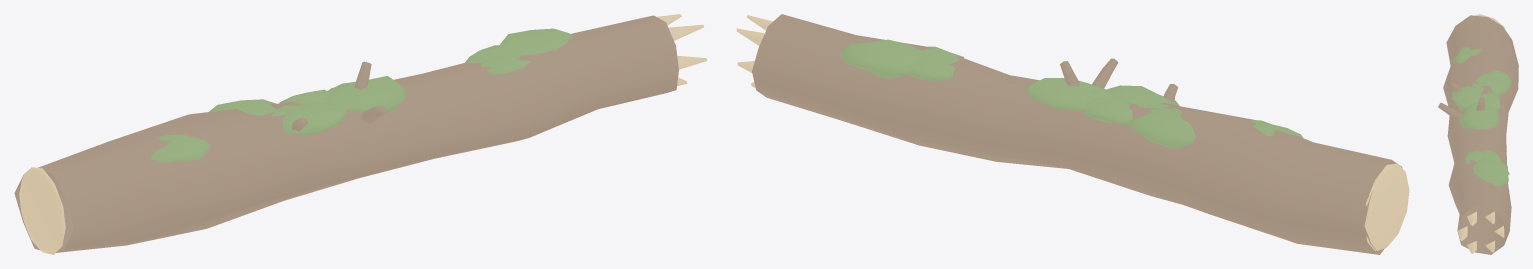
The model's file is Blender_Log_3.glb.
3 renders of one model, left to right at view 1: azimuth 30°, elevation 25°; view 2: azimuth 150°, elevation 25°; view 3: azimuth 270°, elevation 25°, orthographic. The views are drawn at different scales.
Visible parts, largest first — view 1: Blender_Log_3; view 2: Blender_Log_3; view 3: Blender_Log_3.
Boxes of the visible parts, x1,y1,x2,y2 form: Blender_Log_3: (14,14,707,254); Blender_Log_3: (736,14,1409,254); Blender_Log_3: (1438,14,1518,254).
Size of the model in its own units: 7.98 by 1.38 by 1.33.
